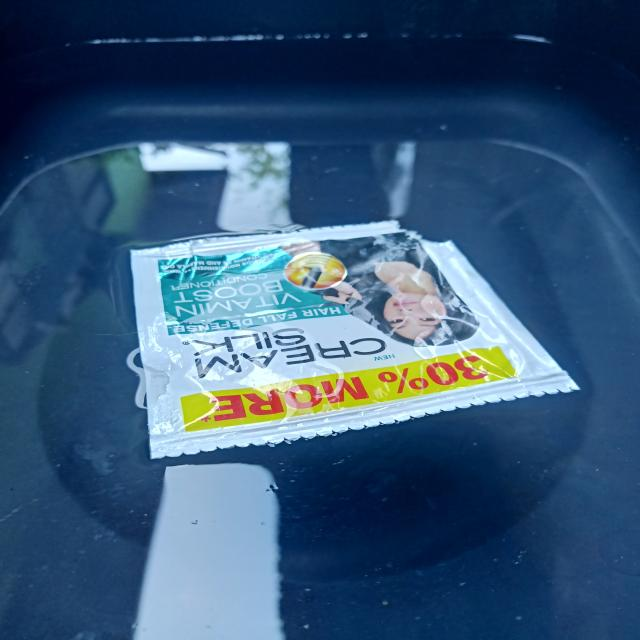Plastic Wrapper: (95, 203, 604, 465)
